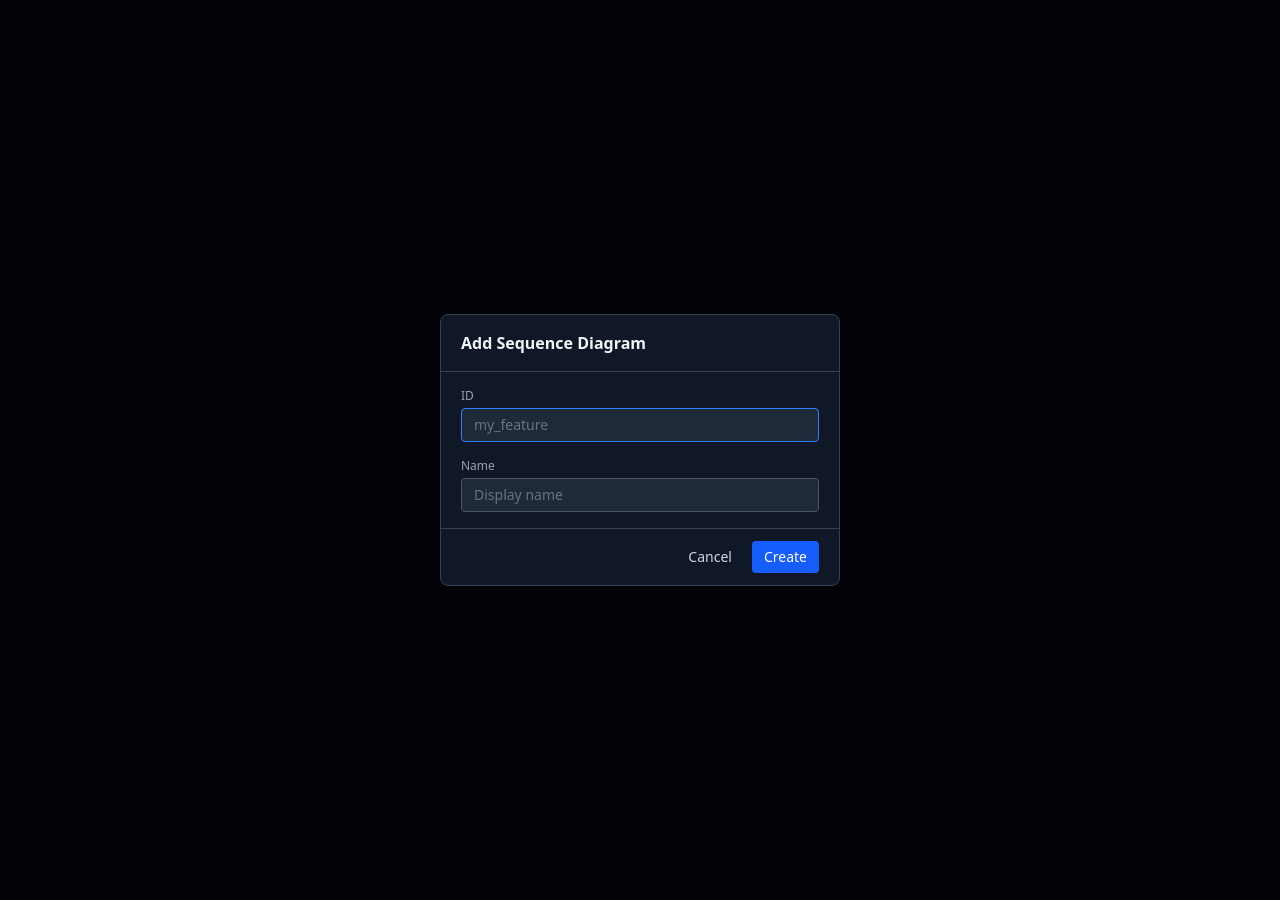
CreateNodeDialog › shows ID format error for invalid id
Step 1. Type "123invalid" into the field with placeholder "my_feature" → (640,425), box [461, 408, 819, 442]
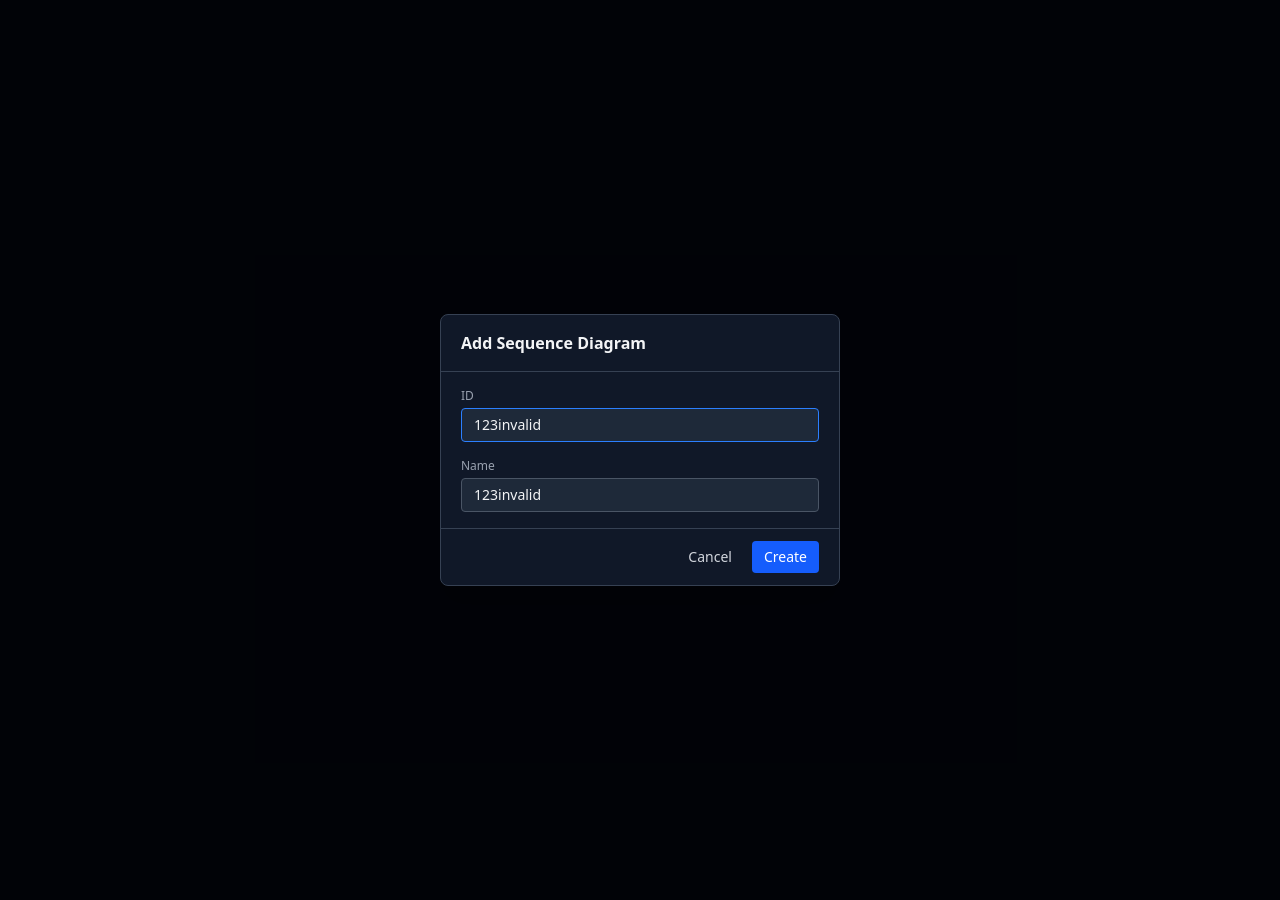
Step 2. Click the button "Create" → (785,557), box [752, 541, 819, 573]
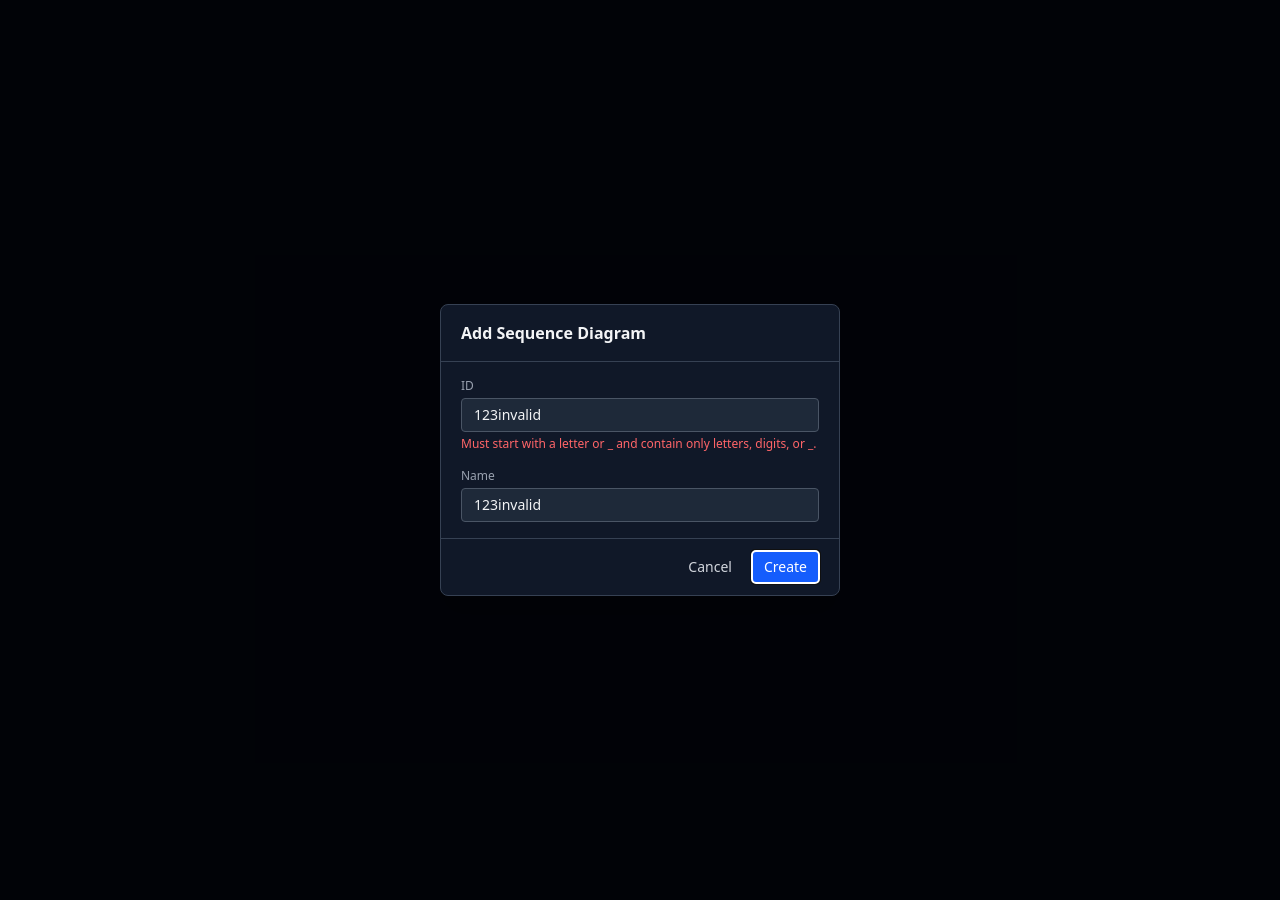
expect the text "Must start with a letter or _ and contain only letters, digits, or _." is shown: met, box [461, 436, 819, 452]
